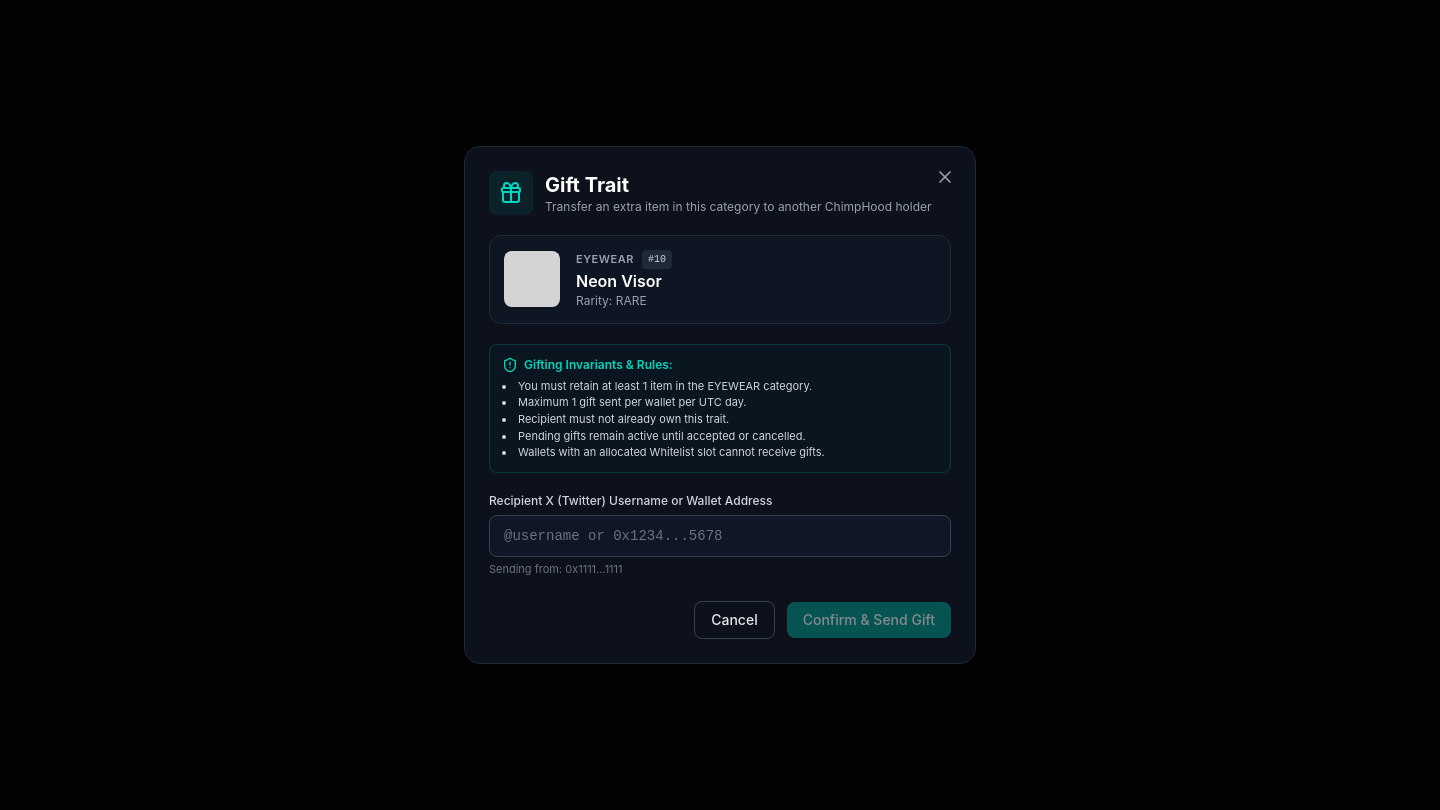
Test: Gifting UI (I-1) Test Suite › 2. Gift Form & Wallet Address Validation (GiftModal) › validates empty, invalid, and self wallet address formats correctly
The width and height of the screenshot is (1440, 810).
Expected: the text "Neon Visor" is shown, [576,271,662,291]
Expected: the text "#10" is shown, [642,250,672,269]
// Enter invalid address (not 40 hex chars)
Type "0x12345" into the field with test id "gift-receiver-input" at {"x": 720, "y": 536}, box [489,515,951,557]
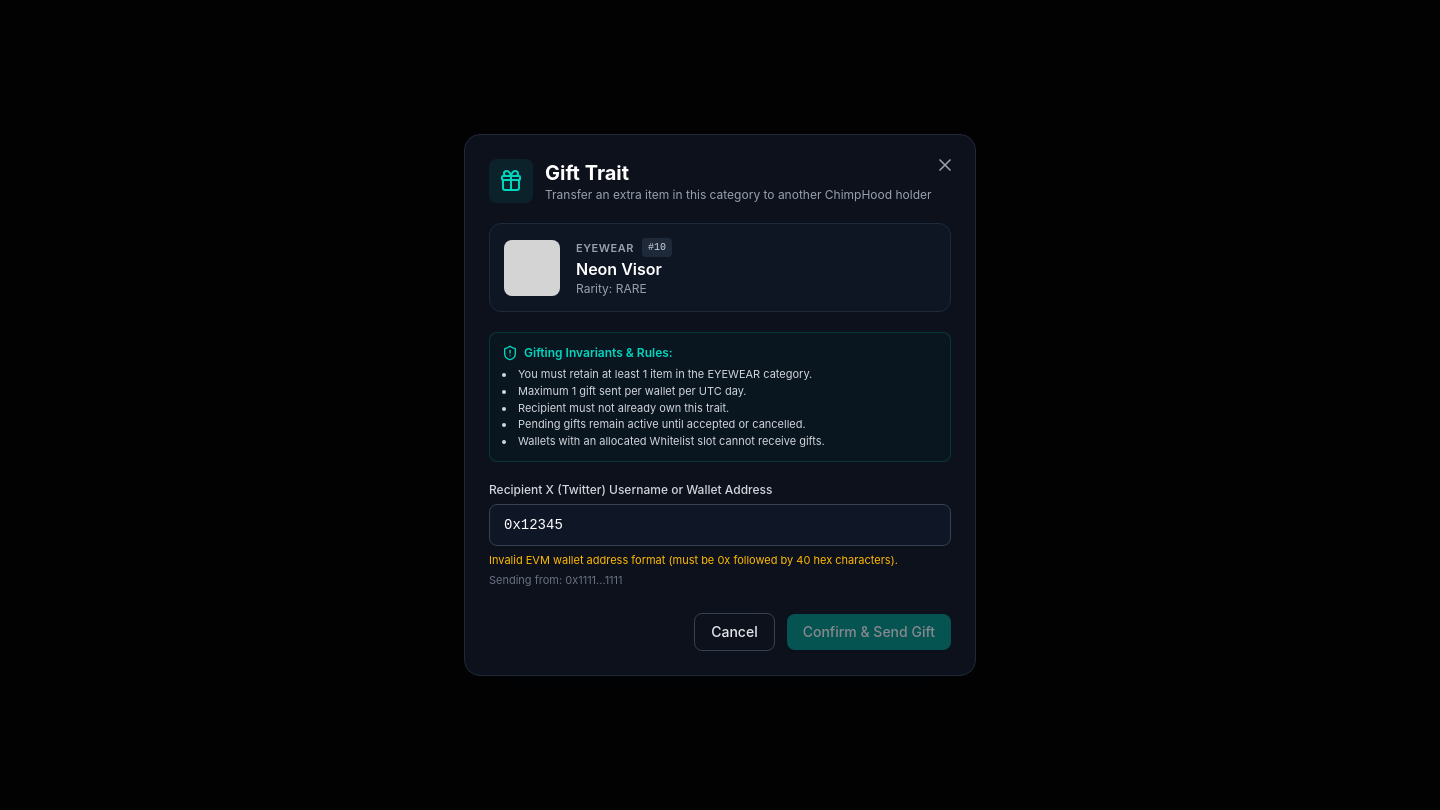
Expected: the button with test id "send-gift-submit" is disabled, [787,614,951,650]
Result: the text "Invalid EVM wallet address format" is shown at [489,553,898,567]
Replace the text in the field with test id "gift-receiver-input" with "0x1111111111111111111111111111111111111111" at {"x": 720, "y": 525}, box [489,504,951,546]
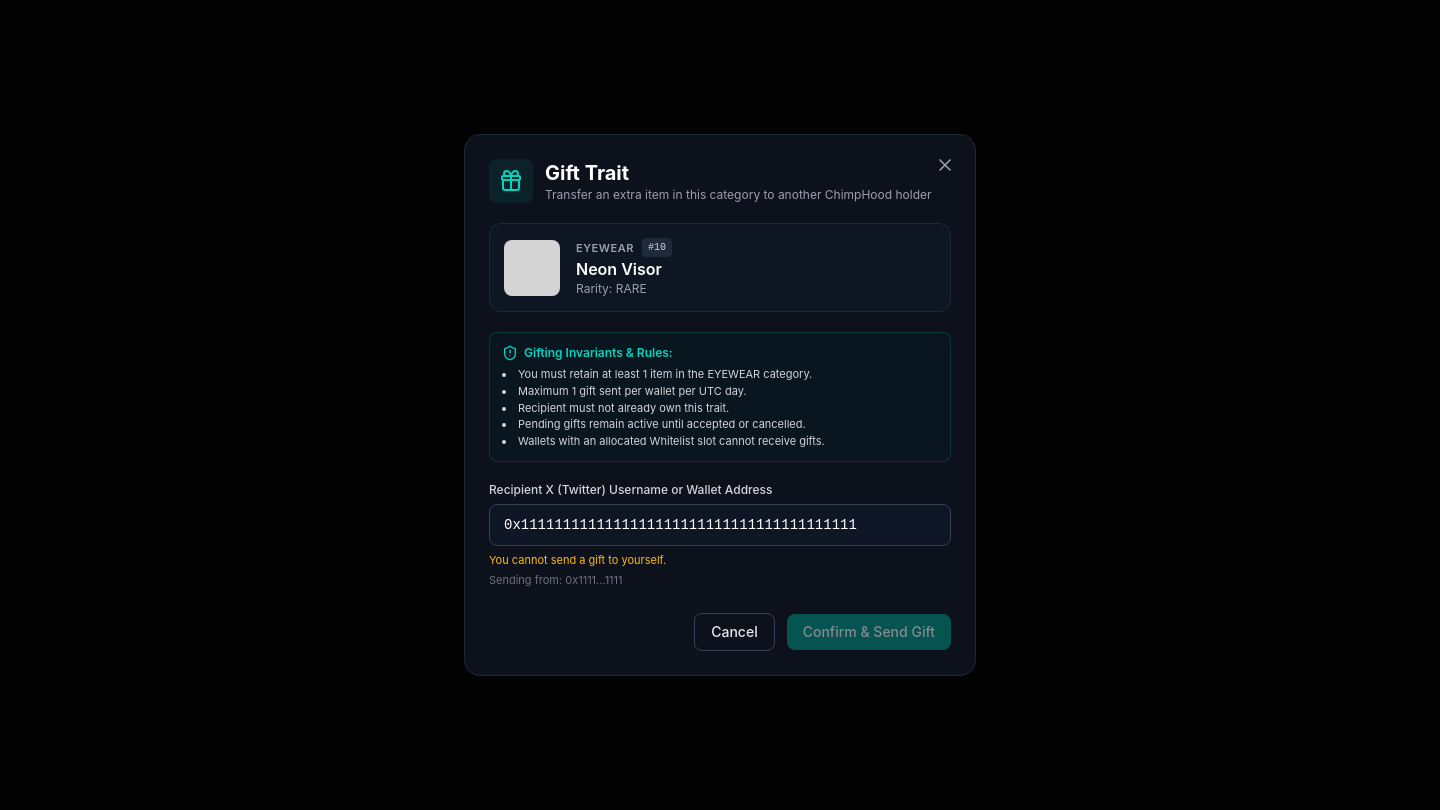
Expected: the button with test id "send-gift-submit" is disabled, [787,614,951,650]
Result: the text "You cannot send a gift to yourself." is shown at [489,553,666,567]
Replace the text in the field with test id "gift-receiver-input" with "0x2222222222222222222222222222222222222222" at {"x": 720, "y": 525}, box [489,504,951,546]
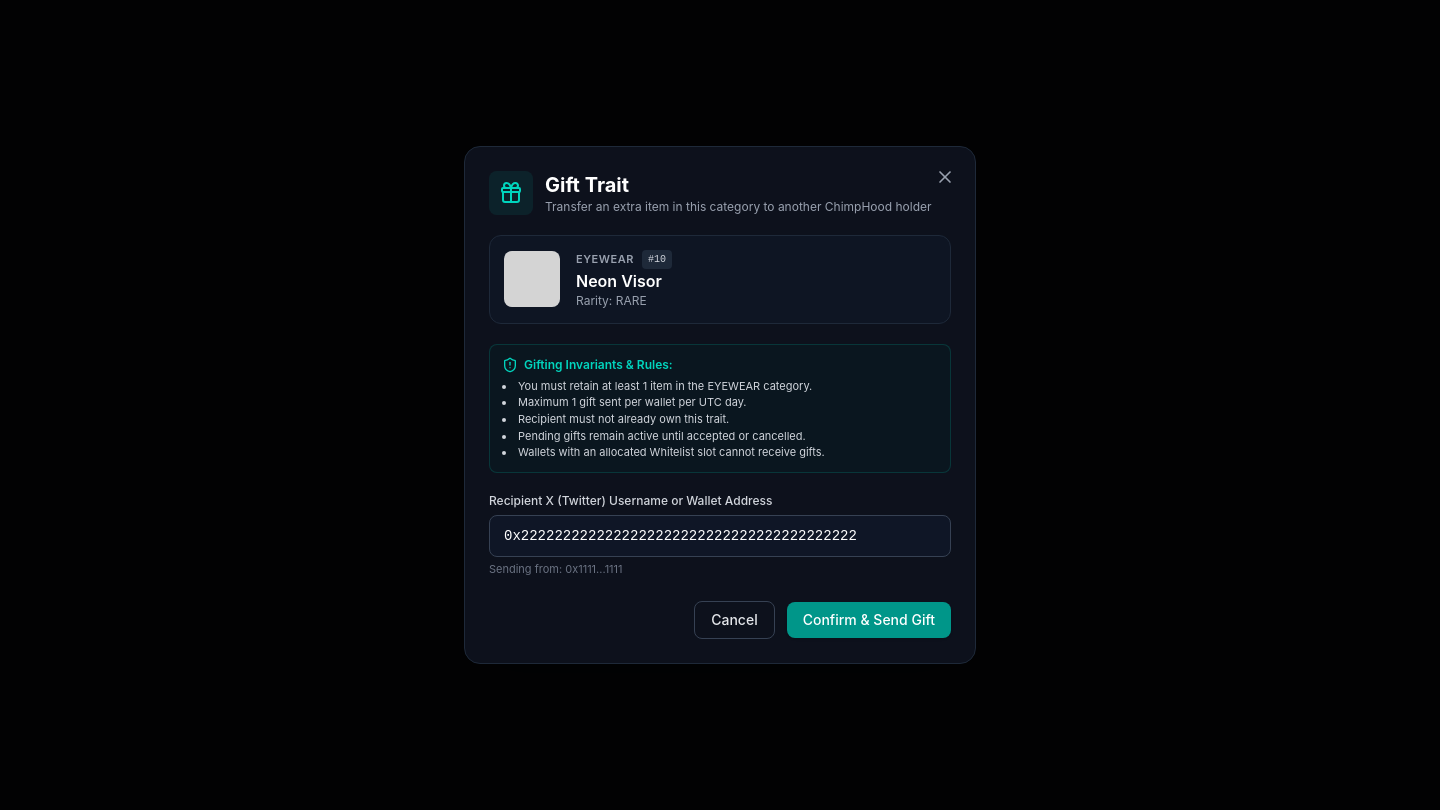
Expected: the text "Invalid EVM" is not shown
Result: the text "You cannot send a gift to yourself" is gone
Result: the button with test id "send-gift-submit" is enabled at [787,602,951,638]
